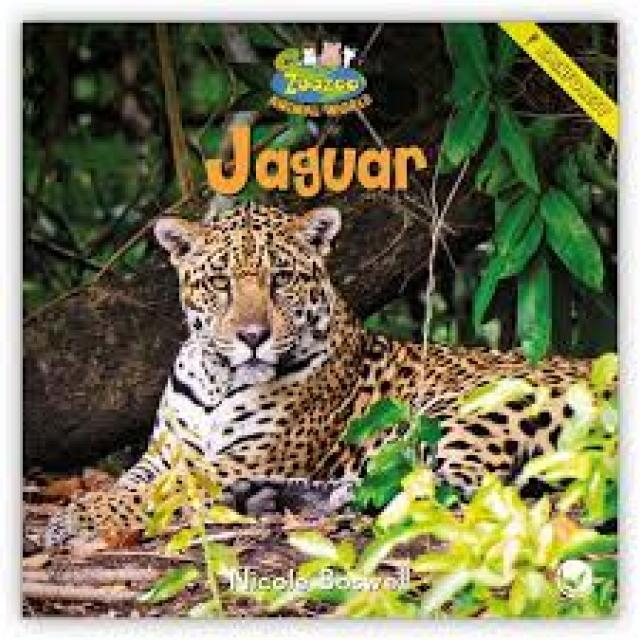Jaguar: (148, 228, 506, 489)
